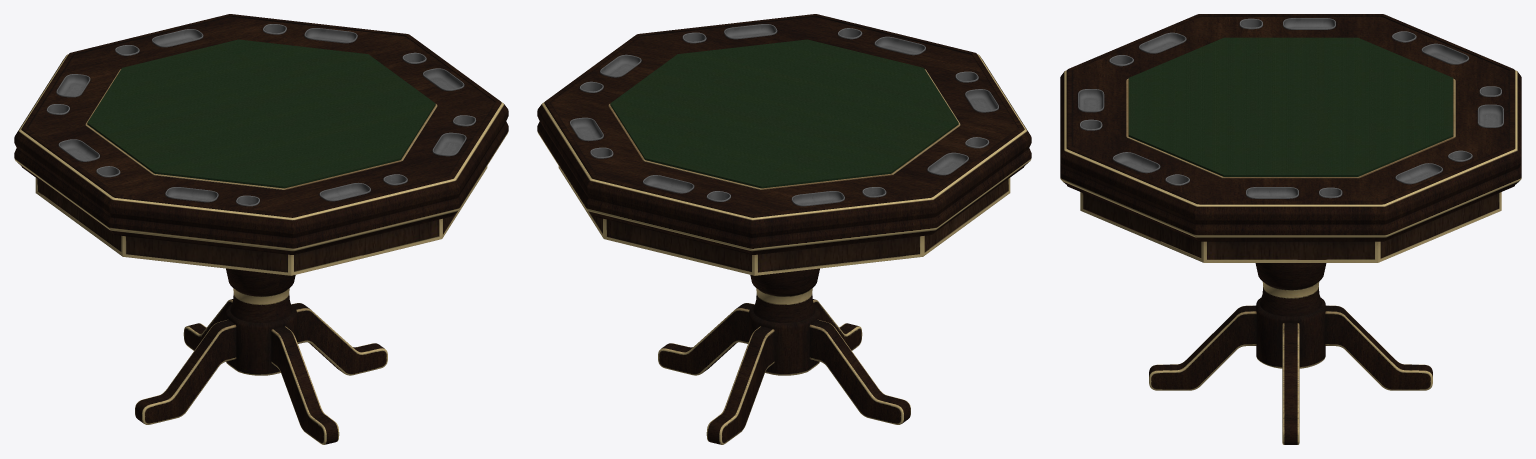
Rendered from sm_pokertable.glb.
The picture shows the model from 3 angles, left to right: view 1: azimuth 30°, elevation 25°; view 2: azimuth 150°, elevation 25°; view 3: azimuth 270°, elevation 25°; orthographic projection.
Visible parts, largest first — view 1: SM_pokertable; view 2: SM_pokertable; view 3: SM_pokertable.
Boxes of the visible parts, x1,y1,x2,y2 form: SM_pokertable: [14, 14, 508, 444]; SM_pokertable: [537, 14, 1031, 444]; SM_pokertable: [1060, 14, 1521, 444].
Bounding box in the file's own units: 1.27 × 0.8524 × 1.27.
1 material, 1 textured.
